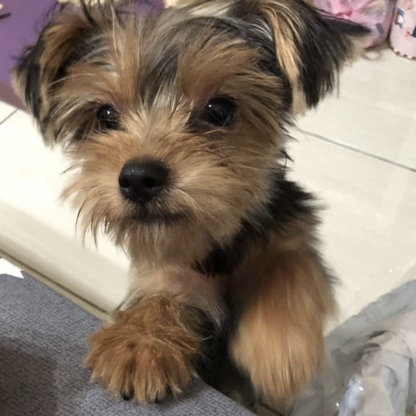yokshine: (16, 2, 359, 408)
